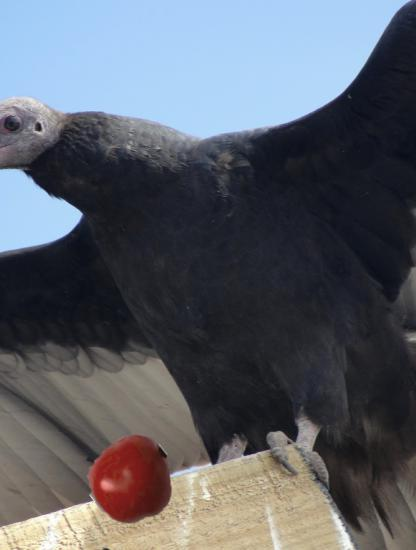Tomato: (90, 438, 177, 525)
